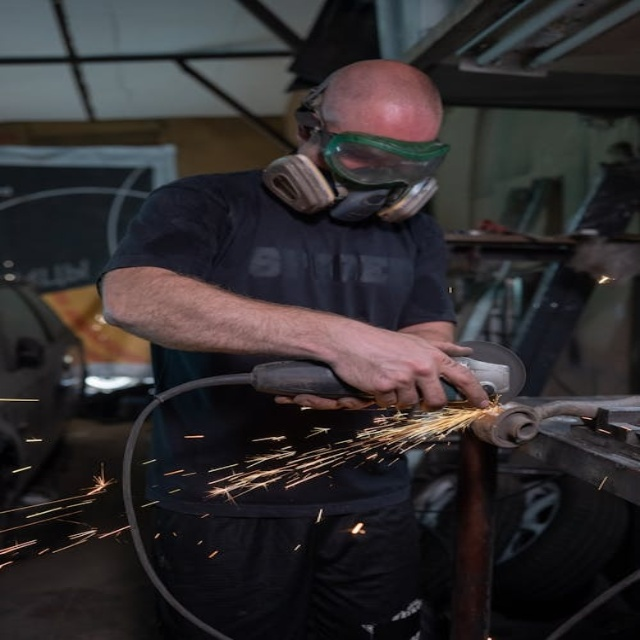Gafas: (313, 126, 453, 188)
Mascara: (263, 75, 446, 225)
Sin_guantes: (328, 322, 495, 422), (271, 389, 375, 416)
